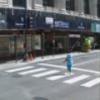crosswalks: (3, 63, 100, 90)
